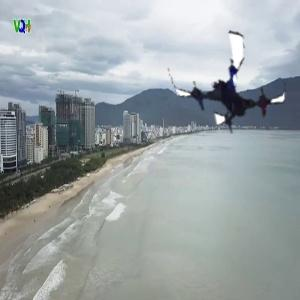drone: (169, 22, 290, 143)
